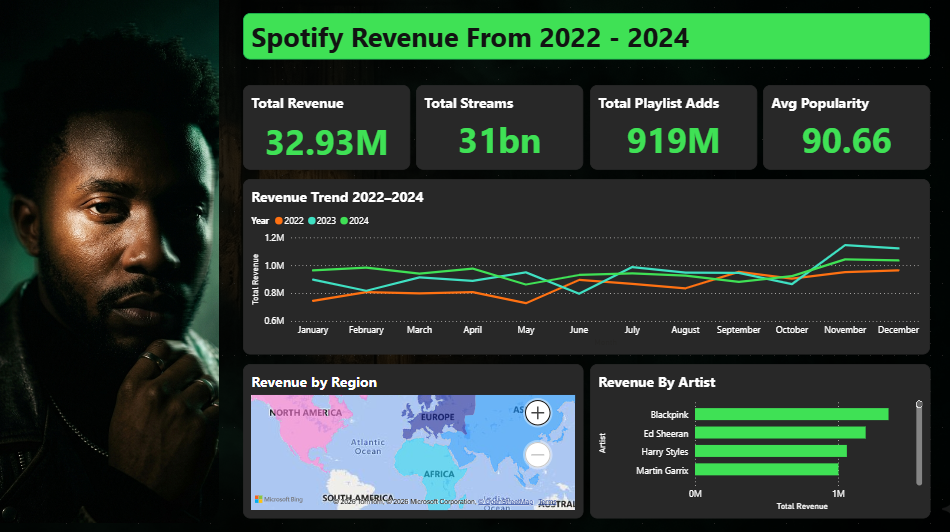

The page's visual inventory and layout, read from the dashboard file:
{"tool":"powerbi","page":{"name":"Page 1","canvas":[1280,720],"ordinal":0},"visuals":[{"type":"group","id":"g1","title":"Group 2","box":[331.7,24,916.3,656],"z":0,"group":"g3"},{"type":"group","id":"g2","title":"Group 1","box":[331.7,102.1,916.3,577.9],"z":0,"group":"g4"},{"type":"card","title":"Total Revenue","fields":{"Values":["Sum(spotify_clean.total_revenue_usd)"]},"box":[331.7,102.1,223.1,112.9],"z":0,"group":"g2"},{"type":"image","box":[0,0,300.2,704],"z":1000,"group":"g3"},{"type":"textbox","title":"Spotify Revenue From 2022 - 2024","box":[331.7,24,916.3,62.5],"z":1000,"group":"g4"},{"type":"card","title":"Premium Revenue","fields":{"Values":["spotify_clean.PremiumRevenuePercent"]},"box":[793.8,102.1,223.1,112.9],"z":1000,"group":"g2"},{"type":"group","id":"g3","title":"Group 3","box":[0,0,1248,704],"z":1001},{"type":"group","id":"g4","title":"Group 4","box":[331.7,24,916.3,656],"z":1002,"group":"g1"},{"type":"card","title":"Total Streams","fields":{"Values":["Sum(spotify_clean.total_streams)"]},"box":[562.8,102.1,223.1,112.9],"z":2000,"group":"g2"},{"type":"card","title":"Avg Popularity","fields":{"Values":["Avg(spotify_clean.popularity_score)"]},"box":[1024.9,102.1,223.1,112.9],"z":3000,"group":"g2"},{"type":"lineChart","title":"Revenue Trend 2022–2024","fields":{"Series":["spotify_clean.month.Variation.Date Hierarchy.Year"],"Category":["spotify_clean.month.Variation.Date Hierarchy.Month"],"Y":["Sum(spotify_clean.total_revenue_usd)"]},"box":[331.7,227.1,916.3,234.3],"z":4000,"group":"g2"},{"type":"filledMap","title":"Revenue by Region","fields":{"Category":["spotify_clean.region"],"Series":["spotify_clean.total_revenue_usd"]},"box":[331.7,474.1,454.1,205.9],"z":5000,"group":"g2"},{"type":"barChart","title":"Revenue By Artist","fields":{"Category":["spotify_clean.artist"],"Y":["Sum(spotify_clean.total_revenue_usd)"]},"box":[793.8,474.1,454.1,205.9],"z":6000,"group":"g2"}]}

Visuals, with their boxes in screenshot pixels (x1, y1, x2, y2), scaled from the page's 1280x720 canvas onto the 950x532 screenshot:
"Group 2" group: {"x1": 246, "y1": 18, "x2": 926, "y2": 502}
"Group 1" group: {"x1": 246, "y1": 75, "x2": 926, "y2": 502}
"Total Revenue" card: {"x1": 246, "y1": 75, "x2": 412, "y2": 159}
image: {"x1": 0, "y1": 0, "x2": 223, "y2": 520}
"Spotify Revenue From 2022 - 2024" textbox: {"x1": 246, "y1": 18, "x2": 926, "y2": 64}
"Premium Revenue" card: {"x1": 589, "y1": 75, "x2": 755, "y2": 159}
"Group 3" group: {"x1": 0, "y1": 0, "x2": 926, "y2": 520}
"Group 4" group: {"x1": 246, "y1": 18, "x2": 926, "y2": 502}
"Total Streams" card: {"x1": 418, "y1": 75, "x2": 583, "y2": 159}
"Avg Popularity" card: {"x1": 761, "y1": 75, "x2": 926, "y2": 159}
"Revenue Trend 2022–2024" lineChart: {"x1": 246, "y1": 168, "x2": 926, "y2": 341}
"Revenue by Region" filledMap: {"x1": 246, "y1": 350, "x2": 583, "y2": 502}
"Revenue By Artist" barChart: {"x1": 589, "y1": 350, "x2": 926, "y2": 502}
